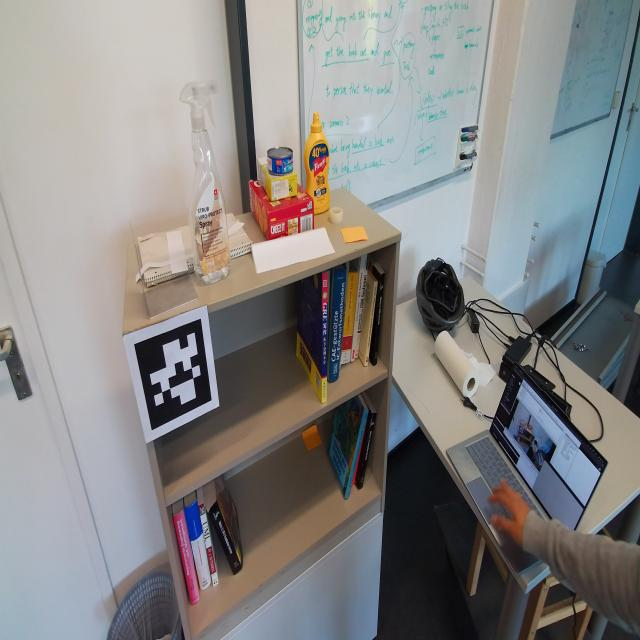Book Spine: (208, 500, 242, 576), (173, 511, 200, 606), (184, 499, 211, 590), (345, 409, 369, 499), (329, 268, 347, 382), (350, 255, 366, 362), (198, 503, 218, 587), (342, 273, 359, 366), (355, 253, 370, 358), (358, 412, 376, 489), (364, 282, 378, 367), (373, 272, 385, 367), (339, 262, 349, 370), (322, 272, 328, 403)
